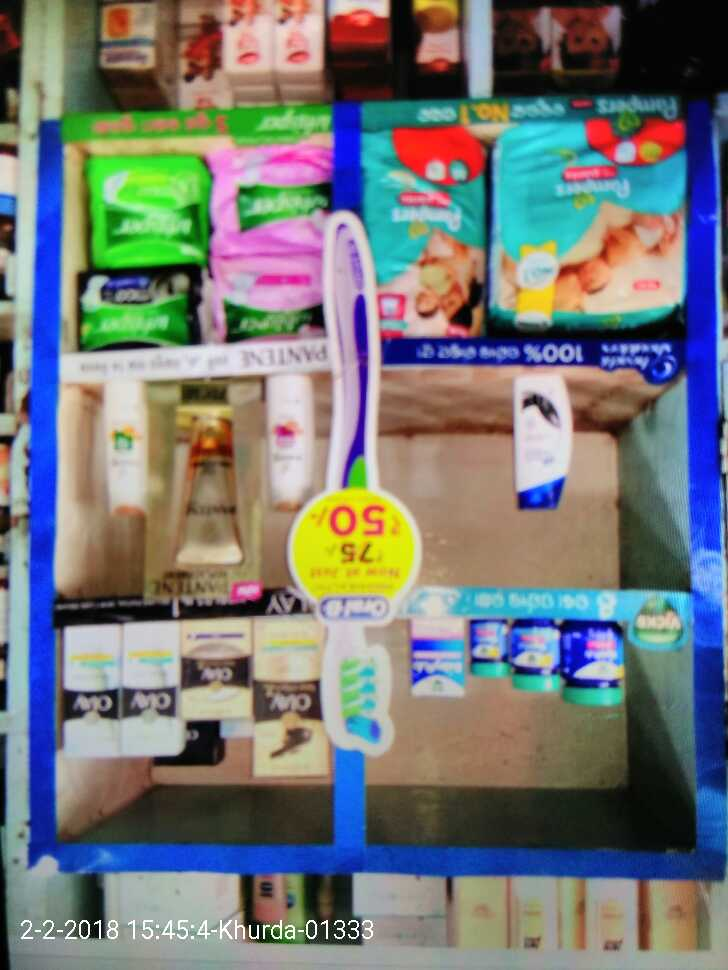vicks: (399, 610, 637, 726)
